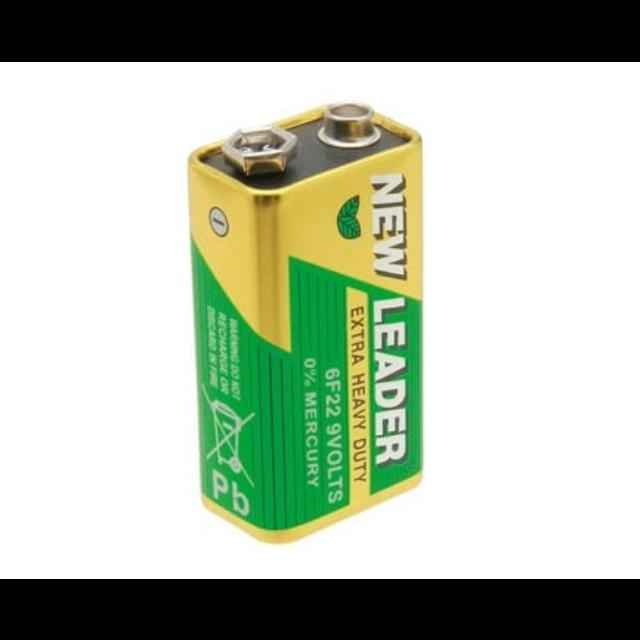Battery: (186, 102, 426, 546)
